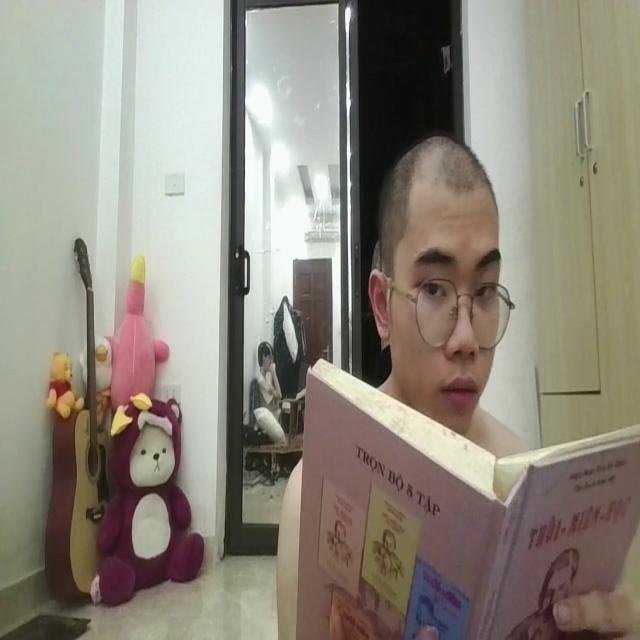book: (291, 343, 640, 640)
extra_person: (256, 315, 281, 439)
student: (277, 130, 539, 640)
